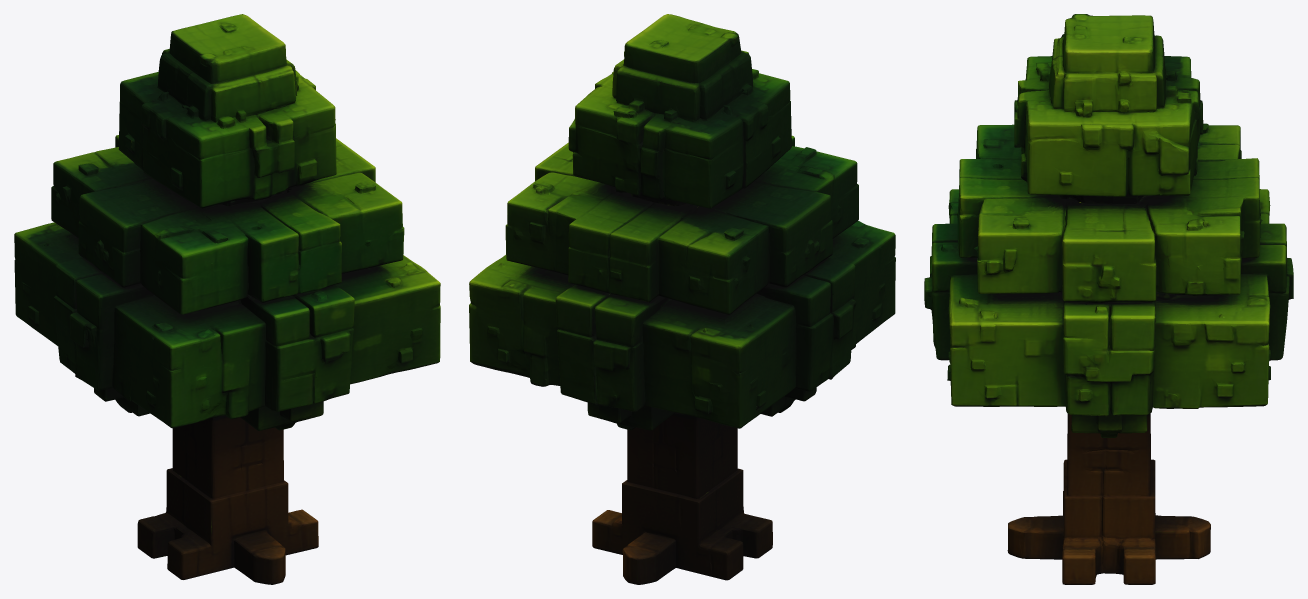
The model's file is tree.glb.
The picture shows the model from 3 angles, left to right: view 1: azimuth 30°, elevation 25°; view 2: azimuth 150°, elevation 25°; view 3: azimuth 270°, elevation 25°; orthographic projection.
Parts seen in each view (by area): view 1: geometry_0.005; view 2: geometry_0.005; view 3: geometry_0.005.
Boxes of the visible parts, <box> form: geometry_0.005: <box>14,14,440,584</box>; geometry_0.005: <box>469,14,895,584</box>; geometry_0.005: <box>924,14,1293,584</box>.
Bounding box in the file's own units: 0.4041 × 0.6303 × 0.4071.
1 material, 1 textured.
